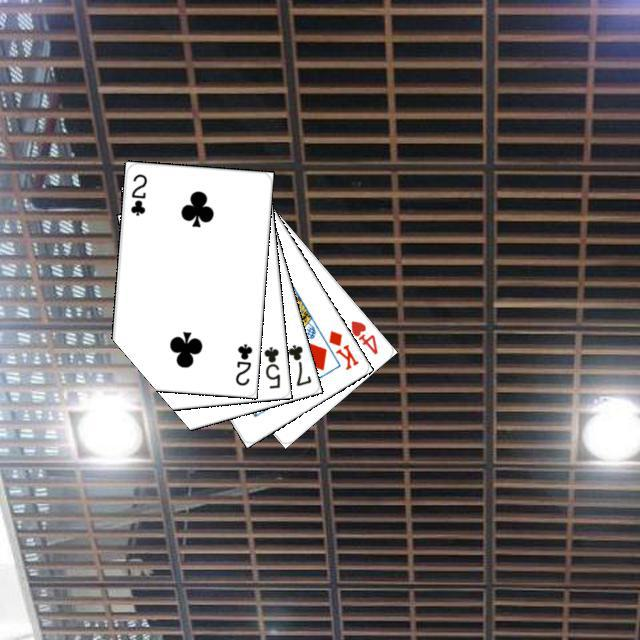2c: (125, 169, 149, 217), (231, 339, 254, 387)
4h: (346, 315, 380, 356)
5c: (259, 342, 282, 390)
7c: (283, 339, 313, 388)
Kd: (324, 325, 360, 372)
